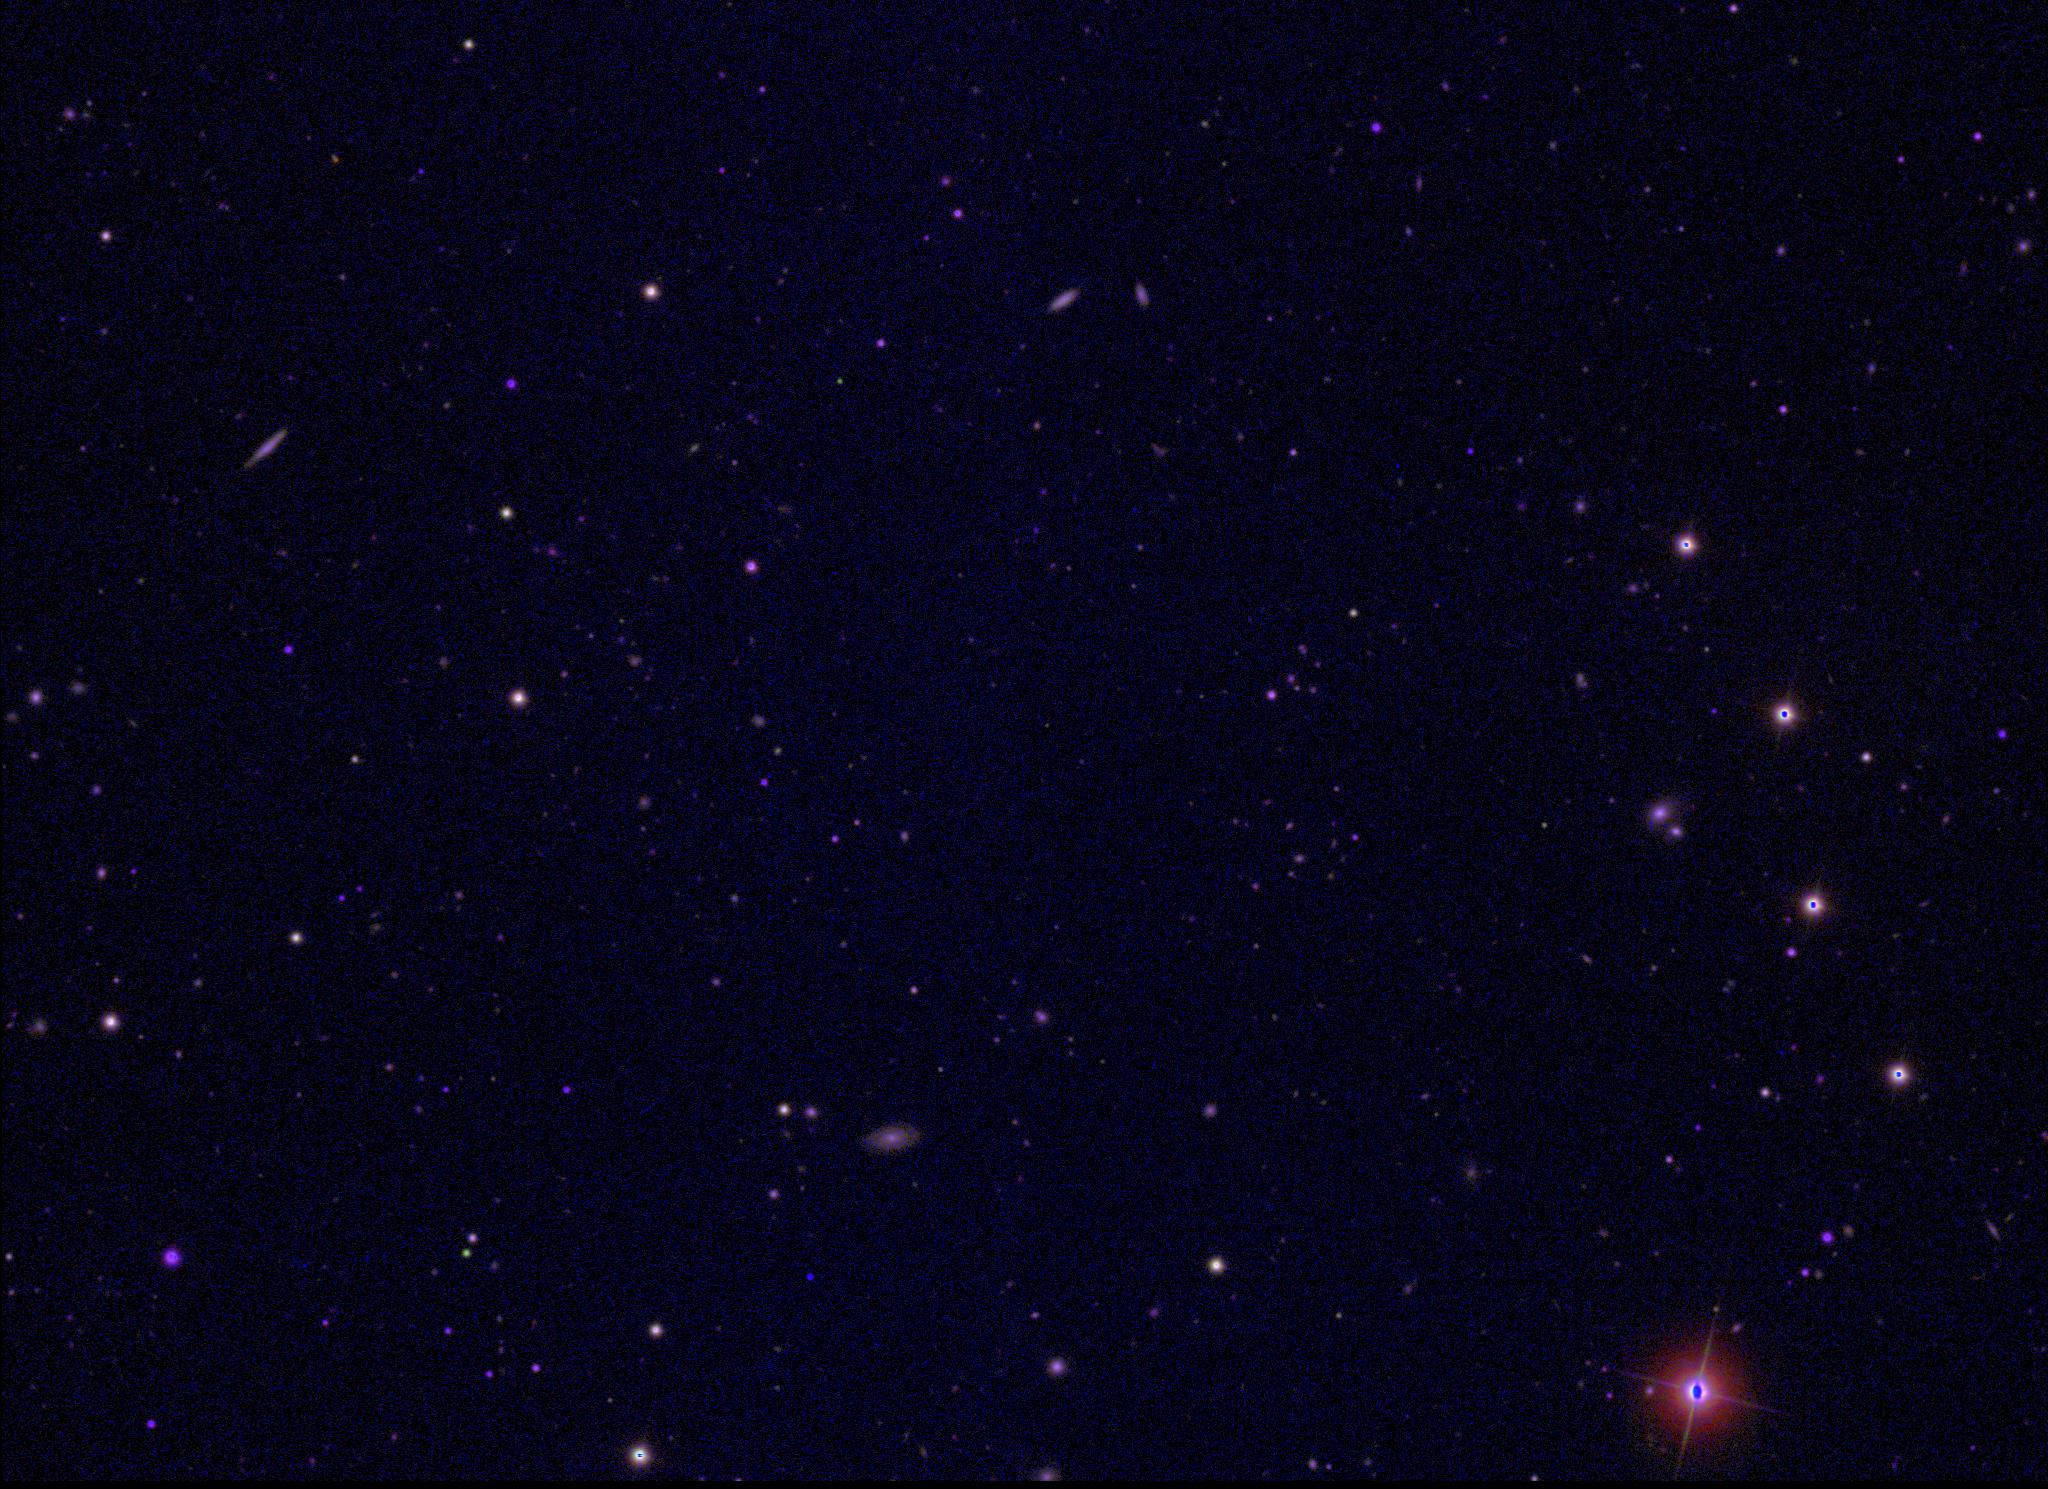L: (803, 1269, 817, 1284)
